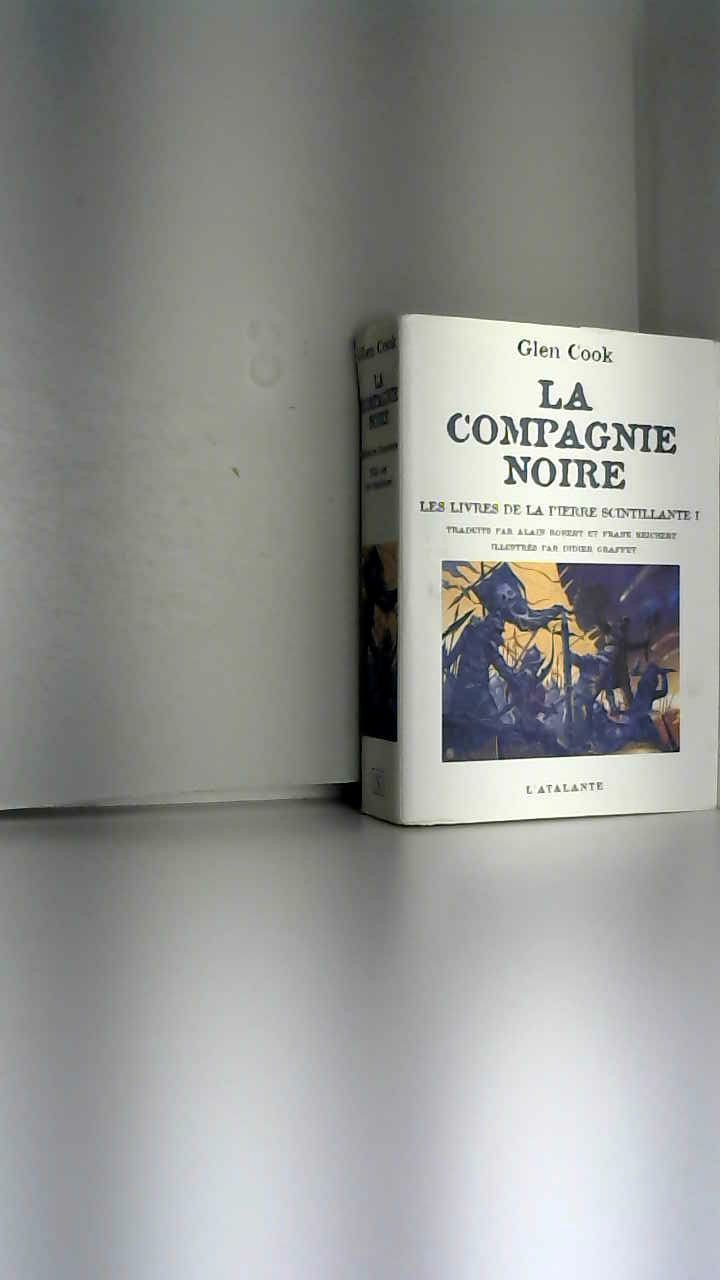book: (330, 280, 720, 846)
